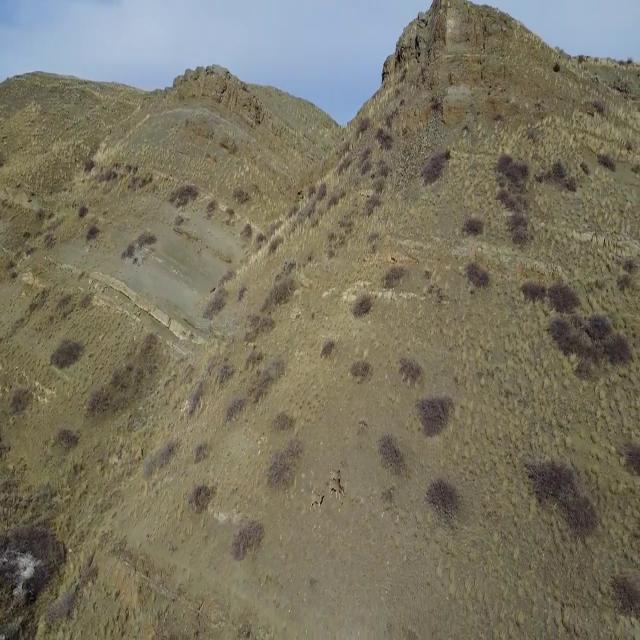Deer: (308, 482, 325, 516), (336, 467, 348, 492), (330, 476, 340, 500)
